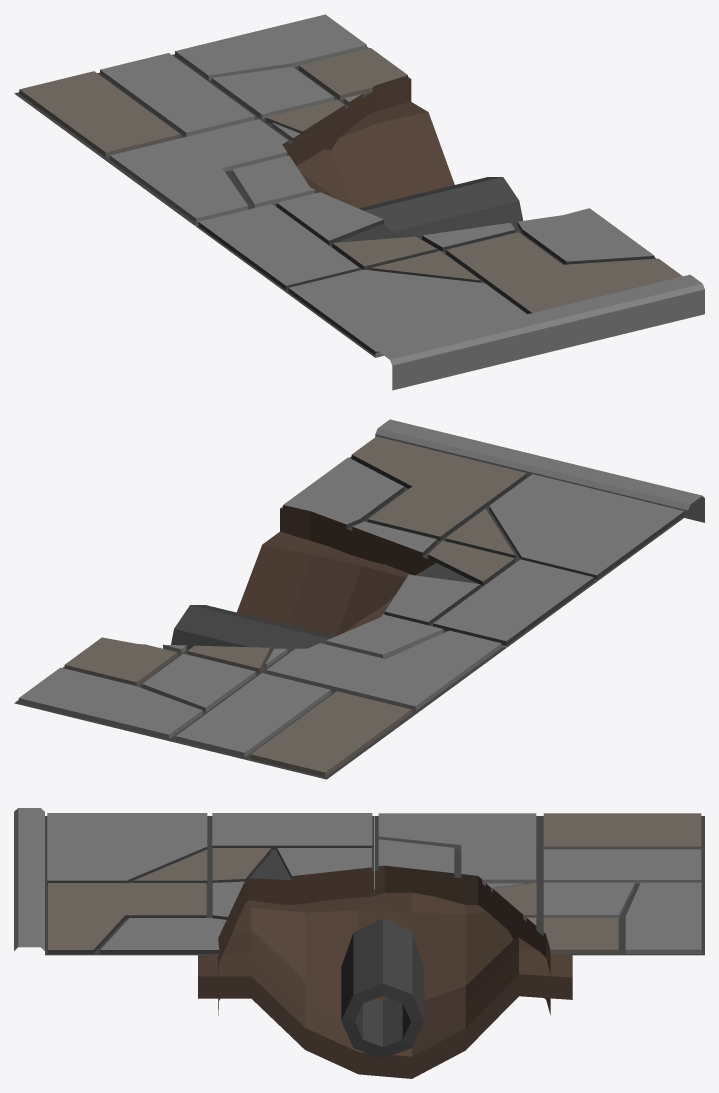
The model's file is Walkway Modern Hole C - 3.001.fbx.
The picture shows the model from 3 angles, top to bottom: view 1: azimuth 30°, elevation 25°; view 2: azimuth 150°, elevation 25°; view 3: azimuth 270°, elevation 25°; orthographic projection. The views are drawn at different scales.
Visible parts, largest first — view 1: Walkway Modern Hole C - 3.001; view 2: Walkway Modern Hole C - 3.001; view 3: Walkway Modern Hole C - 3.001.
Part boxes in pixels (bbox=[...]): Walkway Modern Hole C - 3.001: bbox=[14, 14, 704, 390]; Walkway Modern Hole C - 3.001: bbox=[14, 419, 704, 779]; Walkway Modern Hole C - 3.001: bbox=[14, 808, 704, 1078].
Size of the model in its own units: 306 by 639 by 134.
